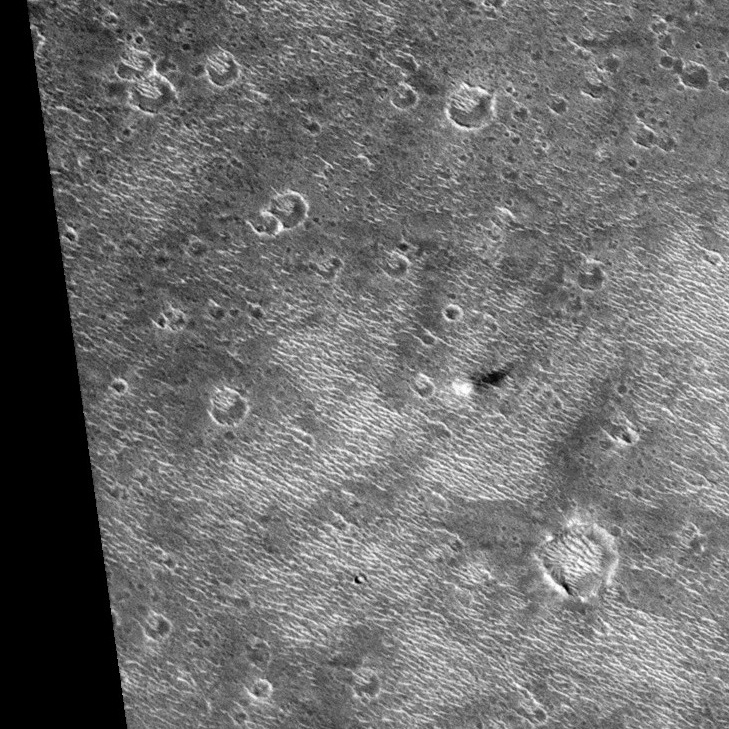dust_devil: (449, 360, 516, 401)
